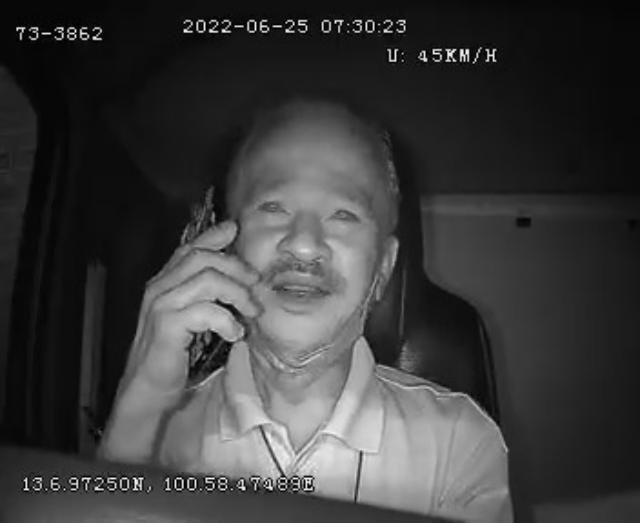PhoneUse: (178, 181, 238, 378)
SafeDriving: (318, 190, 370, 234), (250, 184, 296, 222)
